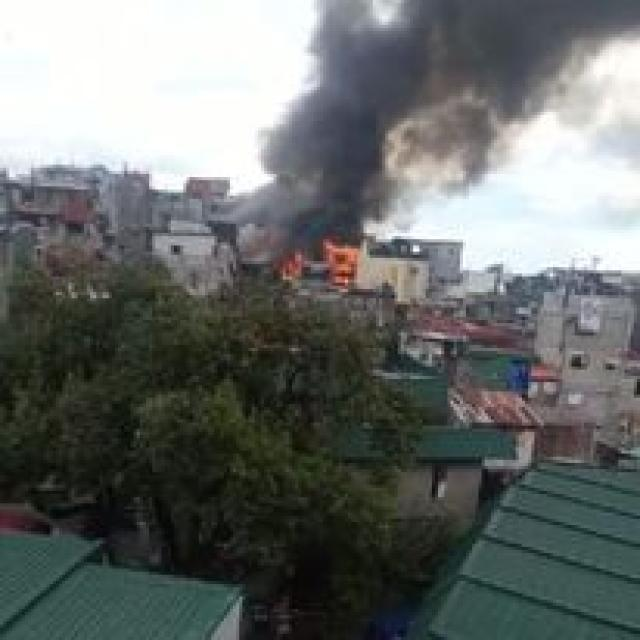Fire: (280, 233, 362, 302)
Smoke: (215, 0, 640, 230)
